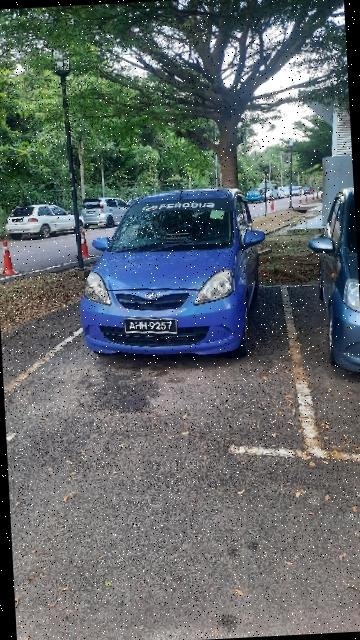License_Plate: (122, 314, 182, 340)
car: (75, 184, 275, 371)
